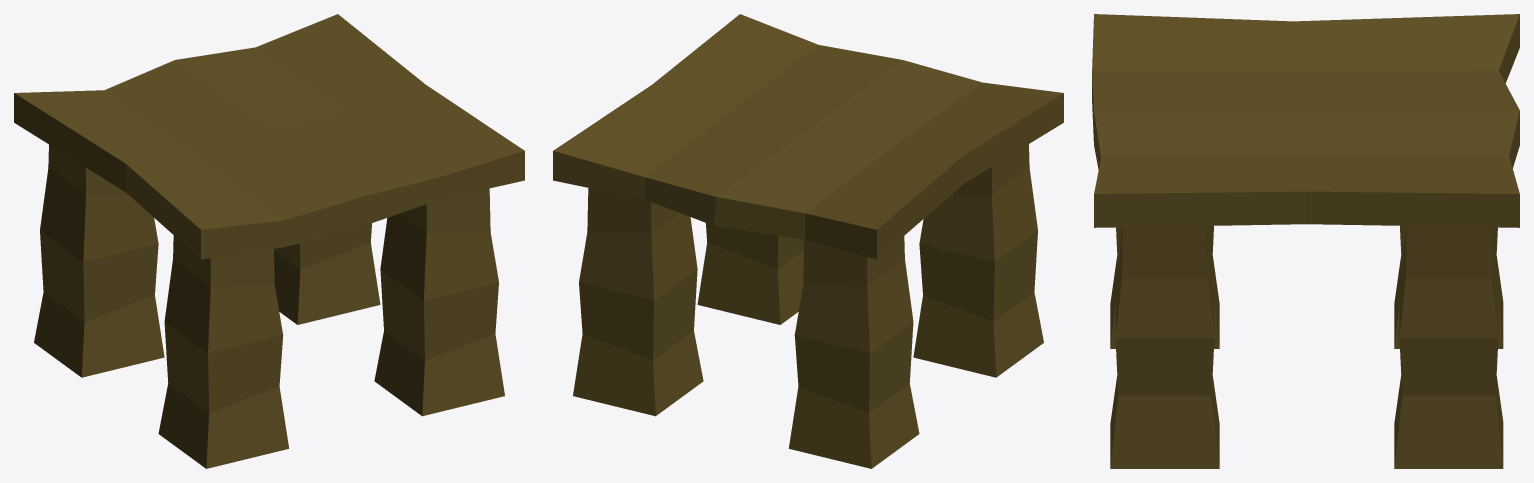
Rendered from chair.fbx.
3 renders of one model, left to right at view 1: azimuth 30°, elevation 25°; view 2: azimuth 150°, elevation 25°; view 3: azimuth 270°, elevation 25°, orthographic. The views are drawn at different scales.
Parts seen in each view (by area): view 1: Cube; view 2: Cube; view 3: Cube.
Boxes of the visible parts, bbox=[...] form: Cube: bbox=[14, 14, 524, 468]; Cube: bbox=[553, 14, 1063, 468]; Cube: bbox=[1092, 14, 1519, 468].
Bounding box in the file's own units: 60 × 43.82 × 60.28.
